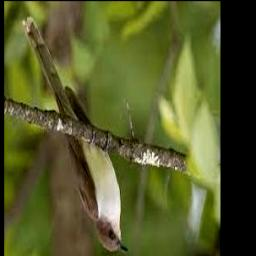Cuckoo: (22, 16, 129, 254)
